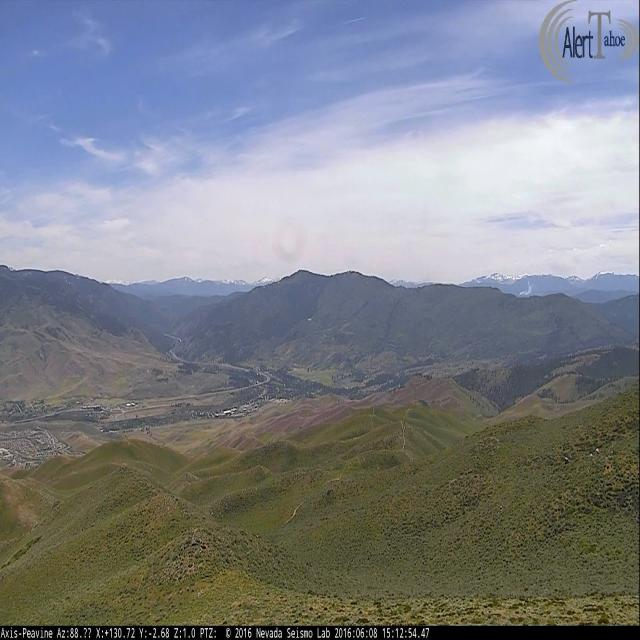smoke: (517, 280, 532, 298)
